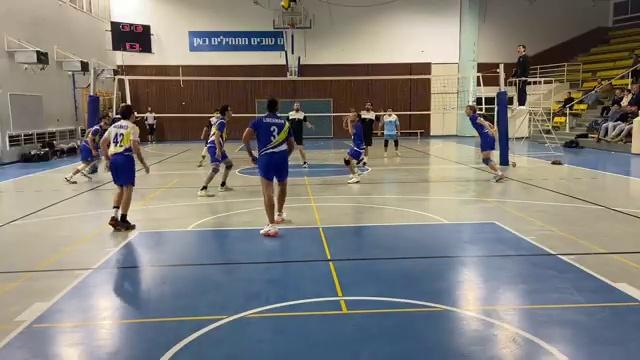ball: (279, 2, 294, 11)
